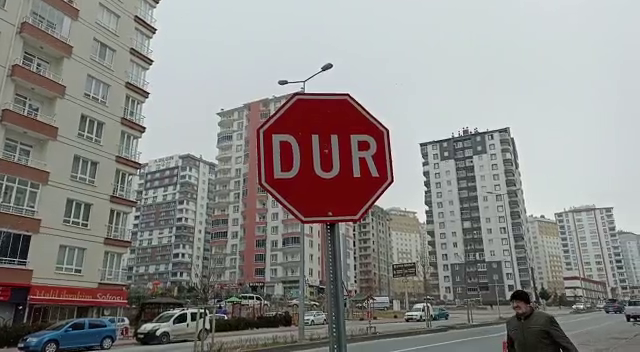stop: (252, 89, 396, 226)
